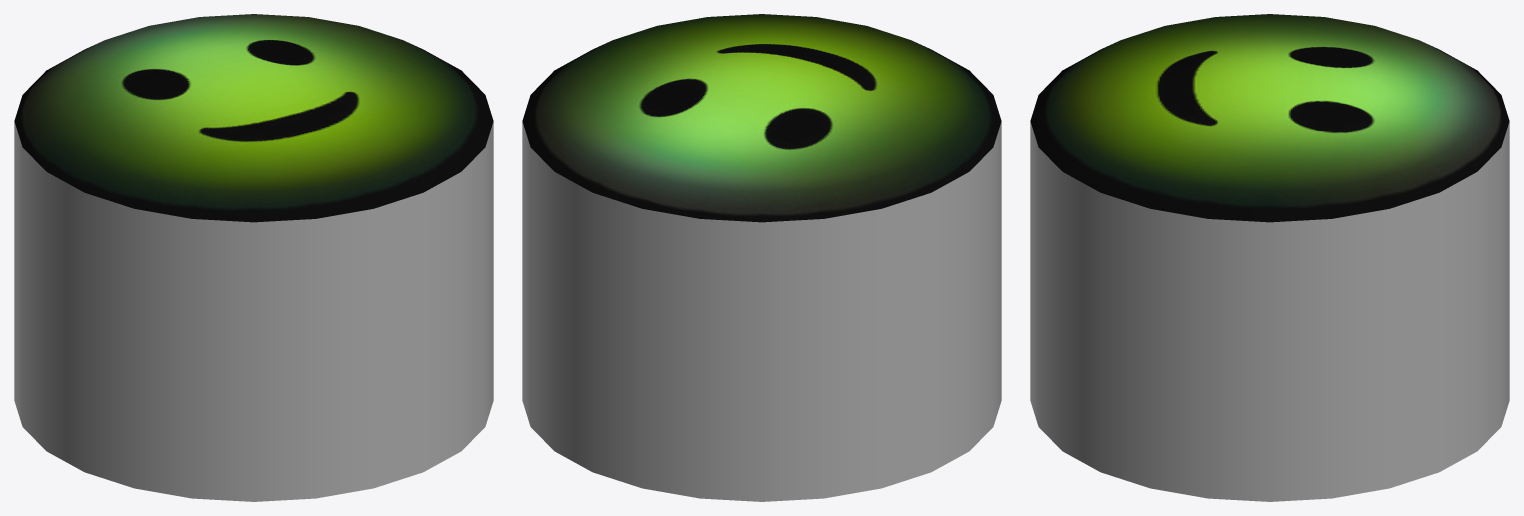
The model's file is button-3.fbx.
3 views of the same model, side by side, from view 1: azimuth 30°, elevation 25°; view 2: azimuth 150°, elevation 25°; view 3: azimuth 270°, elevation 25° (orthographic).
Parts seen in each view (by area): view 1: Cylinder.008; view 2: Cylinder.008; view 3: Cylinder.008.
Part boxes in pixels (x1,y1,x2,y2): Cylinder.008: [14, 14, 493, 501]; Cylinder.008: [522, 14, 1001, 501]; Cylinder.008: [1030, 14, 1509, 501].
Bounding box in the file's own units: 20.19 × 15.01 × 20.19.
Materials: 2 (1 with a texture image).
